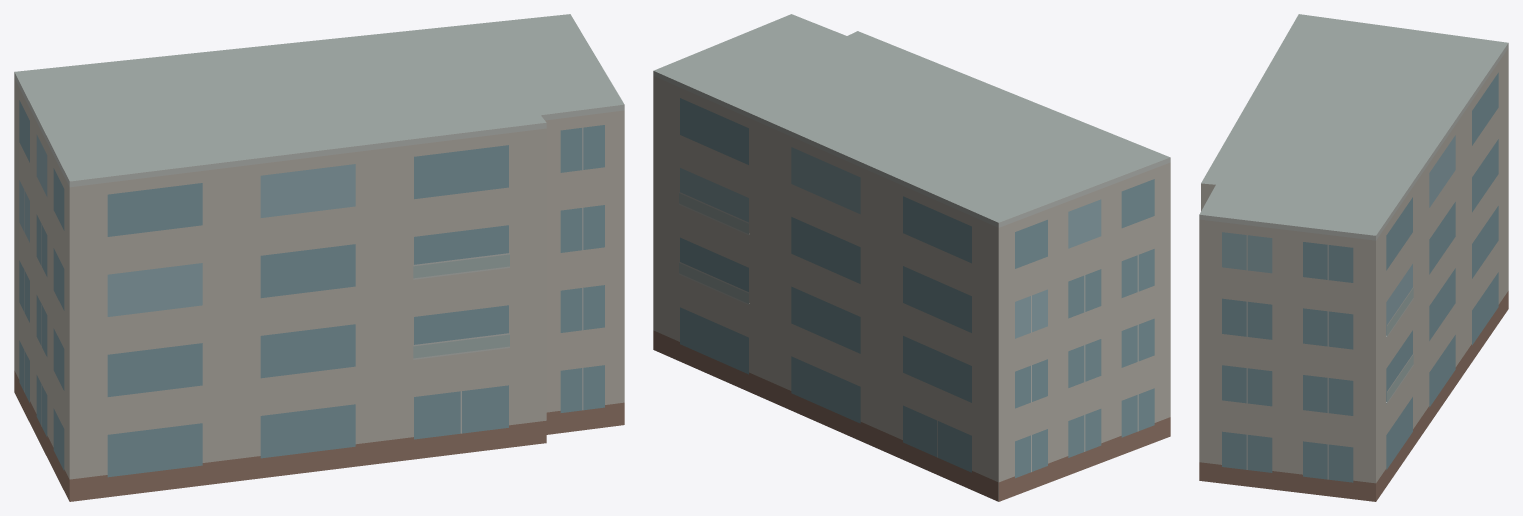
File: survey-upis-32632999.glb
3 views of the same model, side by side, from view 1: azimuth 30°, elevation 25°; view 2: azimuth 150°, elevation 25°; view 3: azimuth 270°, elevation 25° (orthographic). The views are drawn at different scales.
Visible parts, largest first — view 1: survey-upis-32632999.tmp; view 2: survey-upis-32632999.tmp; view 3: survey-upis-32632999.tmp.
Boxes of the visible parts, x1=… form: survey-upis-32632999.tmp: x1=14, y1=14, x2=624, y2=501; survey-upis-32632999.tmp: x1=653, y1=14, x2=1170, y2=501; survey-upis-32632999.tmp: x1=1199, y1=14, x2=1508, y2=501.
Bounding box in the file's own units: 24.14 × 13.5 × 14.23.
